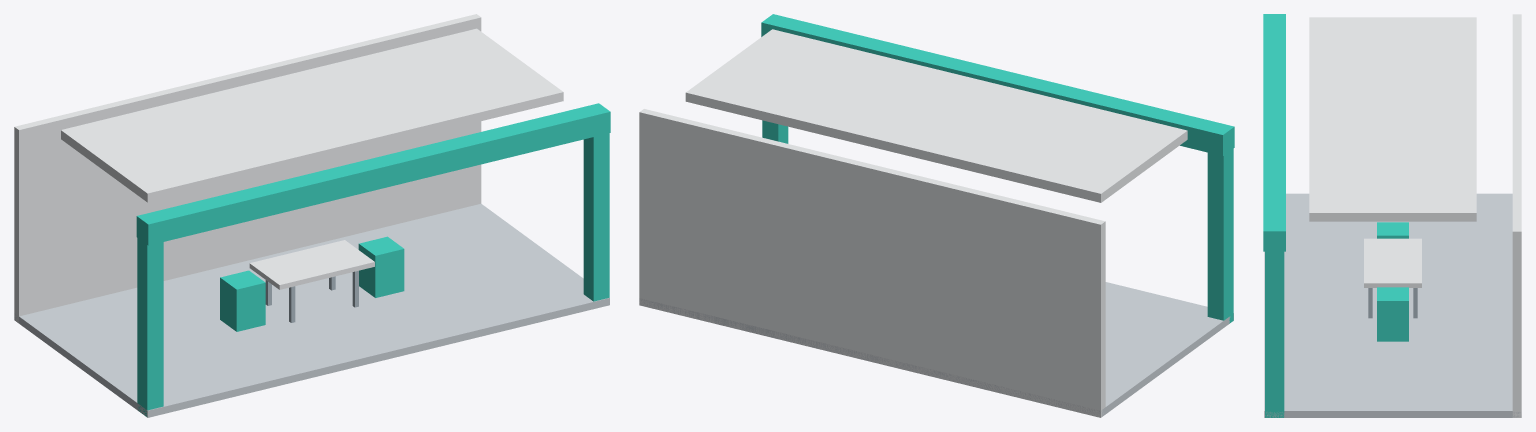
The picture shows the model from 3 angles, left to right: view 1: azimuth 30°, elevation 25°; view 2: azimuth 150°, elevation 25°; view 3: azimuth 270°, elevation 25°; orthographic projection. The views are drawn at different scales.
Parts seen in each view (by area): view 1: Exhibition Booth Concept; view 2: Exhibition Booth Concept; view 3: Exhibition Booth Concept.
Boxes of the visible parts, x1,y1,x2,y2 form: Exhibition Booth Concept: (14, 14, 610, 417); Exhibition Booth Concept: (639, 14, 1234, 417); Exhibition Booth Concept: (1263, 14, 1521, 417).
Bounding box in the file's own units: 8 × 3.34 × 4.02.
